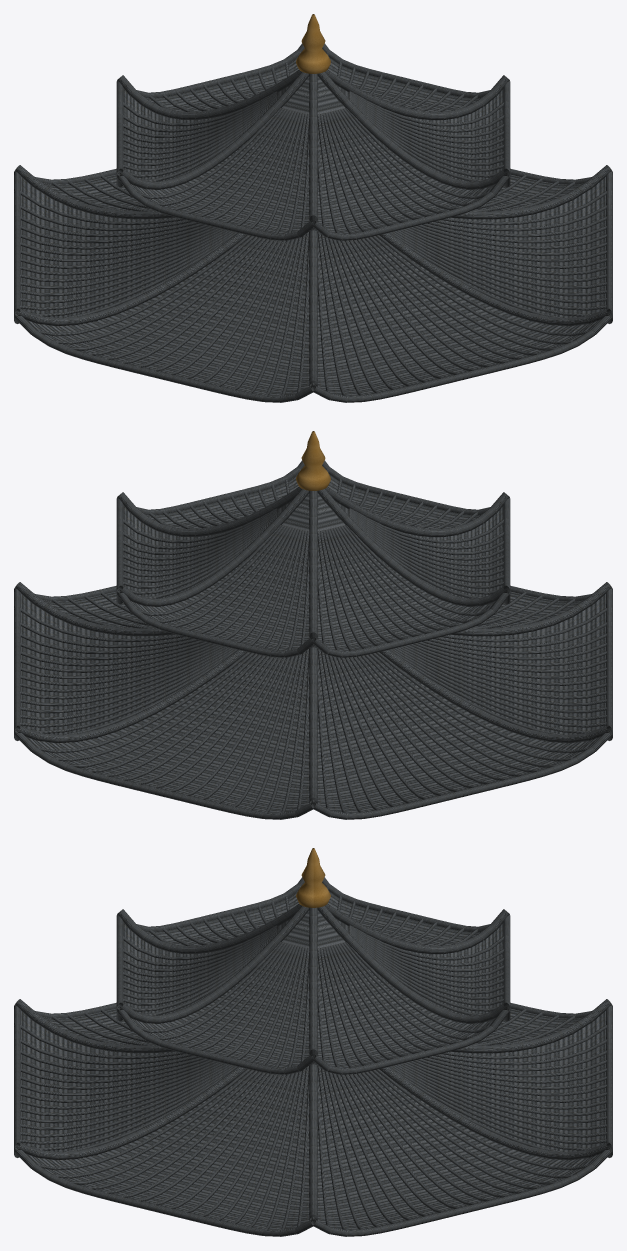
Rendered from pavilion_roofs.glb.
3 views of the same model, one above another, from view 1: azimuth 30°, elevation 25°; view 2: azimuth 150°, elevation 25°; view 3: azimuth 270°, elevation 25° (orthographic).
Parts seen in each view (by area): view 1: pavilion_roofs0, pavilion_roofs1; view 2: pavilion_roofs0, pavilion_roofs1; view 3: pavilion_roofs0, pavilion_roofs1.
Boxes of the visible parts, bbox=[...] form: pavilion_roofs0: bbox=[14, 69, 612, 402]; pavilion_roofs1: bbox=[116, 14, 490, 236]; pavilion_roofs0: bbox=[14, 460, 612, 819]; pavilion_roofs1: bbox=[116, 431, 510, 657]; pavilion_roofs0: bbox=[14, 906, 612, 1236]; pavilion_roofs1: bbox=[117, 848, 510, 1074].
Size of the model in its own units: 13.22 by 5.52 by 11.48.
1 material, 1 textured.
